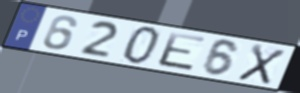0: (120, 25, 162, 65)
2: (78, 20, 121, 59)
6: (200, 39, 243, 77), (42, 14, 79, 50)
E: (155, 30, 209, 73)
X: (235, 42, 288, 86)
